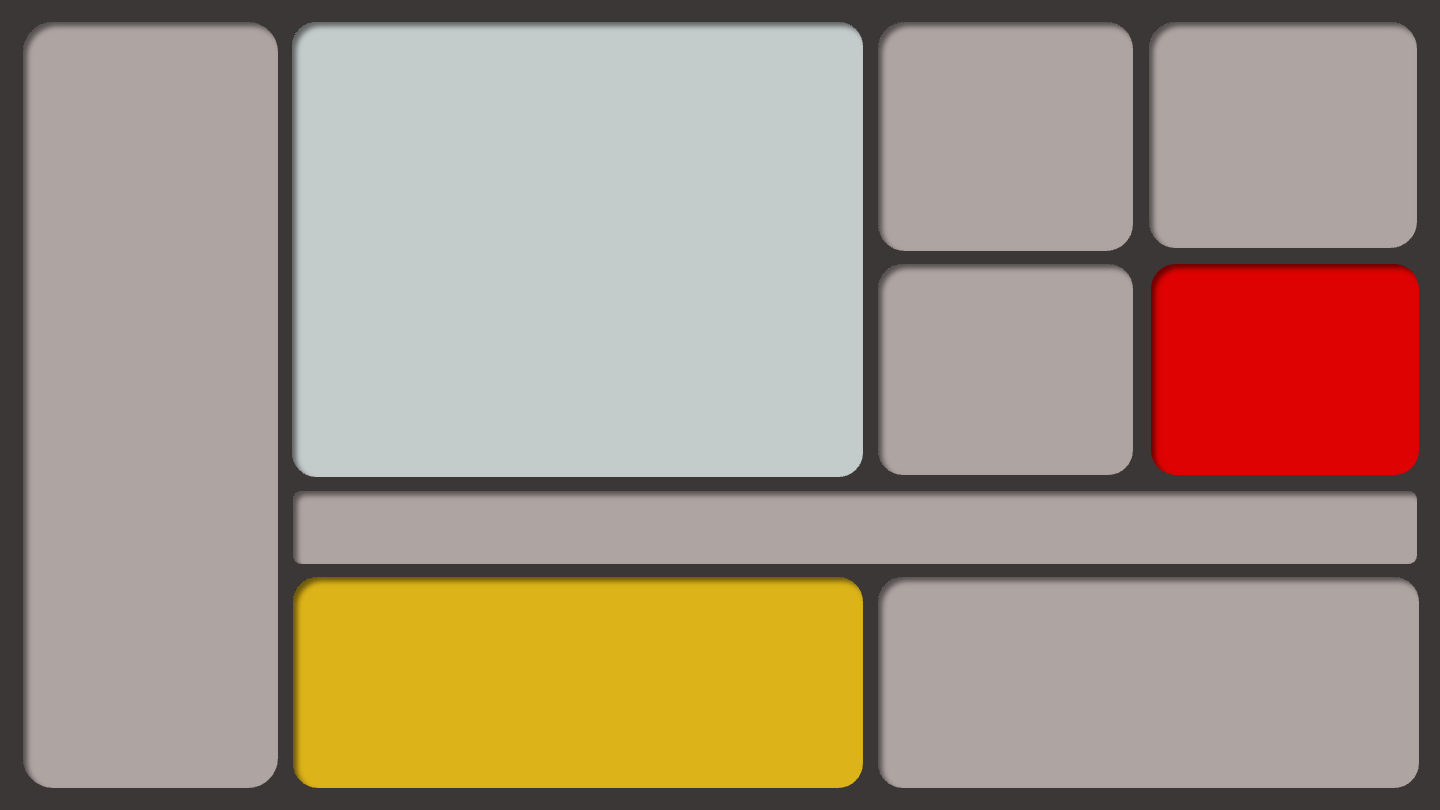

The dashboard page shown, as its layout file describes it:
{"tool":"powerbi","page":{"name":"Detalles","canvas":[1280,720],"ordinal":0},"visuals":[{"type":"scatterChart","title":"Intentos de Suicidio vs Población","fields":{"X":["poblacion_departamentos_2021.total"],"Y":["Sum(datos_suicidios_2021.conteo)"]},"box":[269.7,407.6,521,294.1],"z":0},{"type":"kpi","title":"Total de Casos","fields":{"Indicator":["Sum(datos_suicidios_2021.conteo)"],"TrendLine":["datos_suicidios_2021.semana"]},"box":[817.5,313.6,230.6,111],"z":1000},{"type":"cardVisual","fields":{"Data":["Sum(poblacion_departamentos_2021.total)","Sum(PIB_departamental.PIB_MM)"]},"box":[817.5,23.2,230.6,270.9],"z":2000},{"type":"slicer","fields":{"Values":["poblacion_departamentos_2021.dpnom"]},"box":[32.9,45.1,201.3,84.2],"z":3000},{"type":"slicer","fields":{"Values":["PIB_departamental.PIB_Billones"]},"box":[32,182.2,208,160],"z":4000},{"type":"shapeMap","title":"Mapa de Casos","fields":{"Category":["poblacion_departamentos_2021.dpnom"],"Value":["Sum(datos_suicidios_2021.conteo)"]},"box":[272,16,512,368],"z":5000},{"type":"textbox","box":[32,624,208,64],"z":6000},{"type":"lineChart","title":"Evolución de los Casos por Semana","fields":{"Category":["datos_suicidios_2021.semana"],"Y":["Sum(datos_suicidios_2021.conteo)"]},"box":[816,432,432,112],"z":7000},{"type":"slicer","fields":{"Values":["datos_suicidios_2021.semana"]},"box":[32,395.1,208,176],"z":8000}]}

Visuals, with their boxes in screenshot pixels (x1, y1, x2, y2), scaled from the page's 1280x720 canvas onto the 1440x810 screenshot:
"Intentos de Suicidio vs Población" scatterChart: BBox(303, 459, 890, 789)
"Total de Casos" kpi: BBox(920, 353, 1179, 478)
cardVisual - Sum(poblacion_departamentos_2021.total) x Sum(PIB_departamental.PIB_MM): BBox(920, 26, 1179, 331)
slicer - poblacion_departamentos_2021.dpnom: BBox(37, 51, 263, 145)
slicer - PIB_departamental.PIB_Billones: BBox(36, 205, 270, 385)
"Mapa de Casos" shapeMap: BBox(306, 18, 882, 432)
textbox: BBox(36, 702, 270, 774)
"Evolución de los Casos por Semana" lineChart: BBox(918, 486, 1404, 612)
slicer - datos_suicidios_2021.semana: BBox(36, 444, 270, 642)
